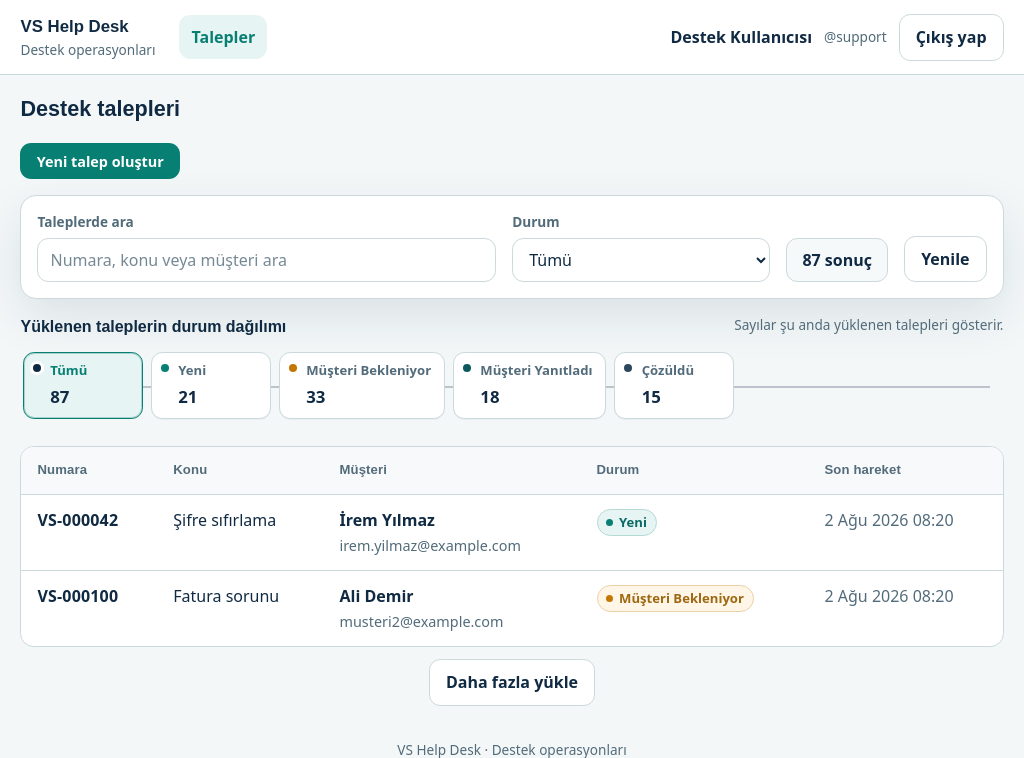
Test case: TicketListPage › resets accumulated rows when status changes and sends the server filter
Expected: the table is shown, [22,447,1003,646]
Step 1. Click the button "Daha fazla yükle" → (512, 682), box [429,659,595,706]
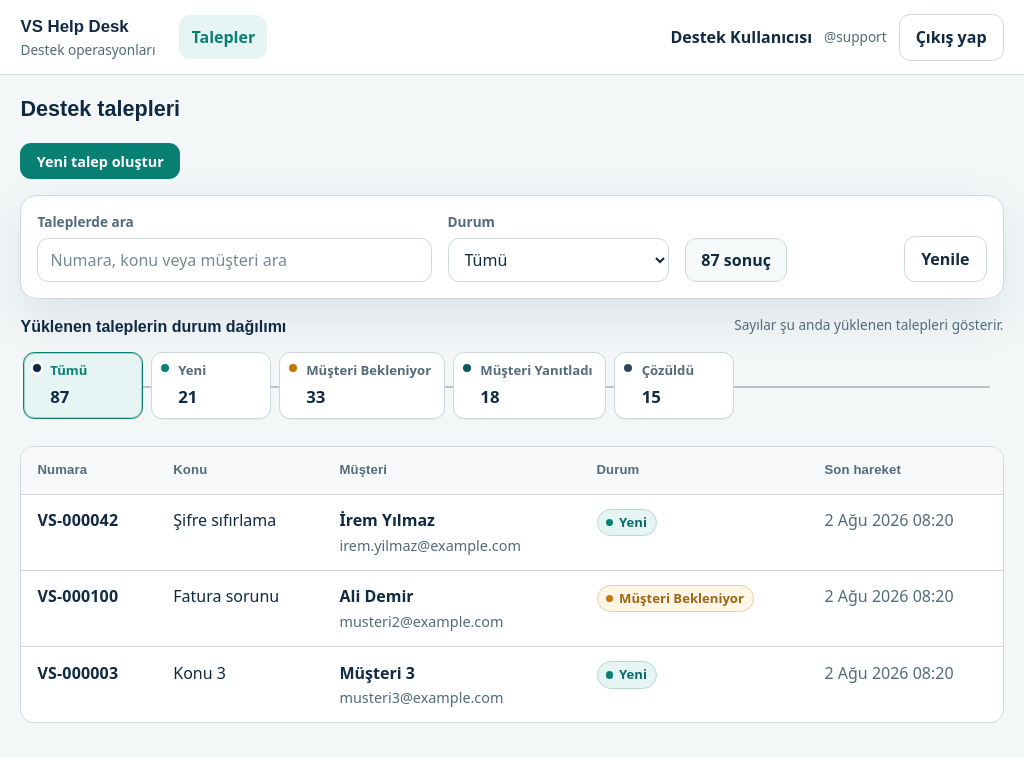
Result: the link "VS-000003" is shown at [38,662,118,684]
Step 2. Select "Çözüldü" in the dropdown labelled "Durum" → (558, 260), box [448,238,669,282]
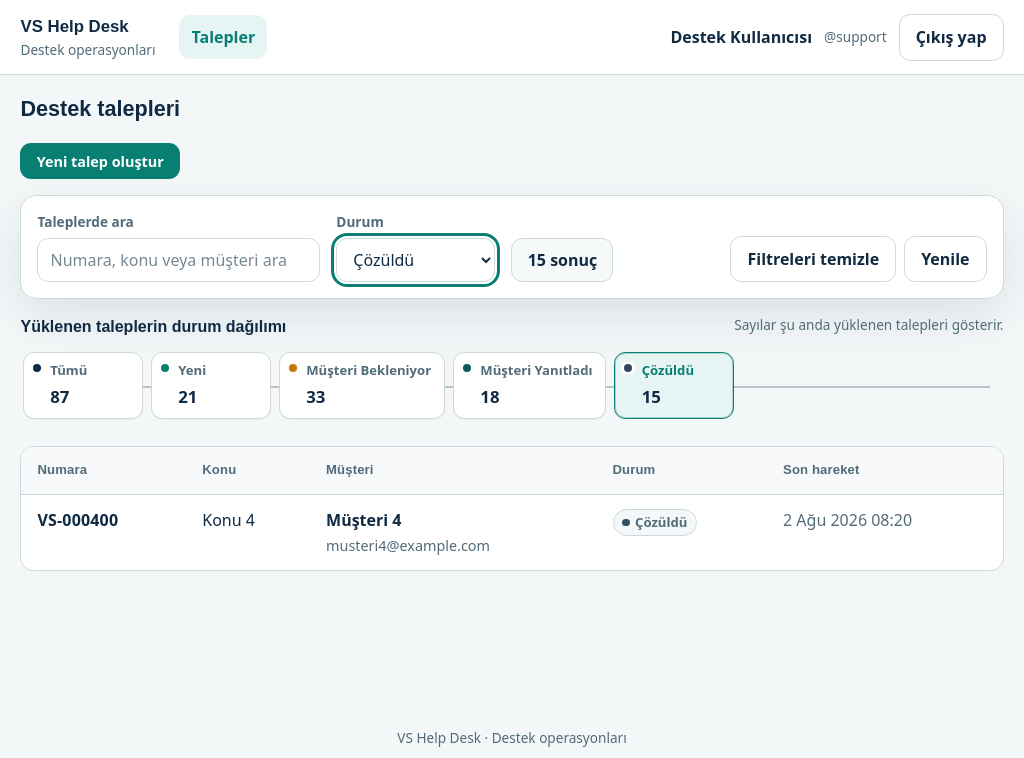
Result: the link "VS-000042" is gone
Result: the link "VS-000400" is shown at [38,509,118,531]
